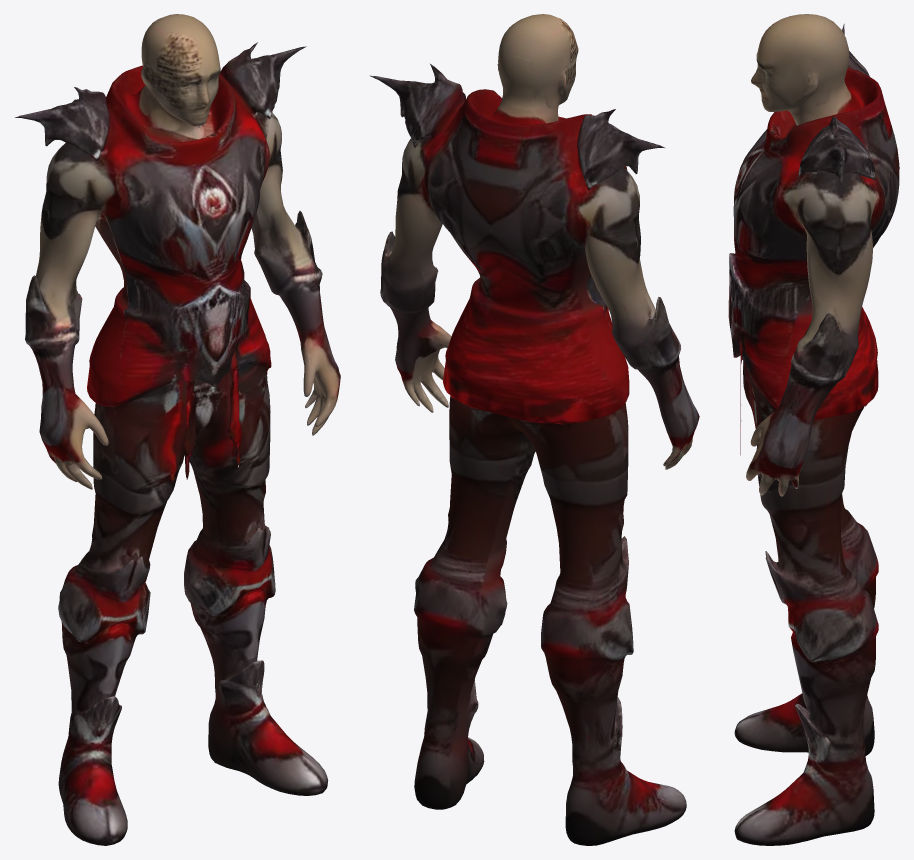
File: ignis-molok-male-warrior.glb
3 renders of one model, left to right at view 1: azimuth 30°, elevation 25°; view 2: azimuth 150°, elevation 25°; view 3: azimuth 270°, elevation 25°, orthographic.
Parts seen in each view (by area): view 1: model; view 2: model; view 3: model.
Part boxes in pixels (x1,y1,x2,y2): model: (14, 14, 340, 845); model: (369, 14, 699, 845); model: (728, 14, 899, 845).
Size of the model in its own units: 0.7516 by 1.9 by 0.3823.
1 material, 1 textured.
